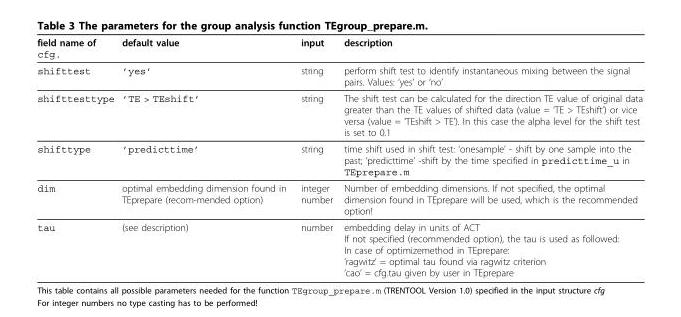table: (36, 36, 641, 277)
table column: (337, 36, 641, 277), (117, 36, 292, 277), (36, 36, 117, 277), (292, 36, 337, 277)
table column header: (36, 36, 641, 61)
table row: (36, 218, 641, 277), (36, 89, 641, 140), (36, 140, 641, 179), (36, 179, 641, 218), (36, 61, 641, 89), (36, 36, 641, 61)
